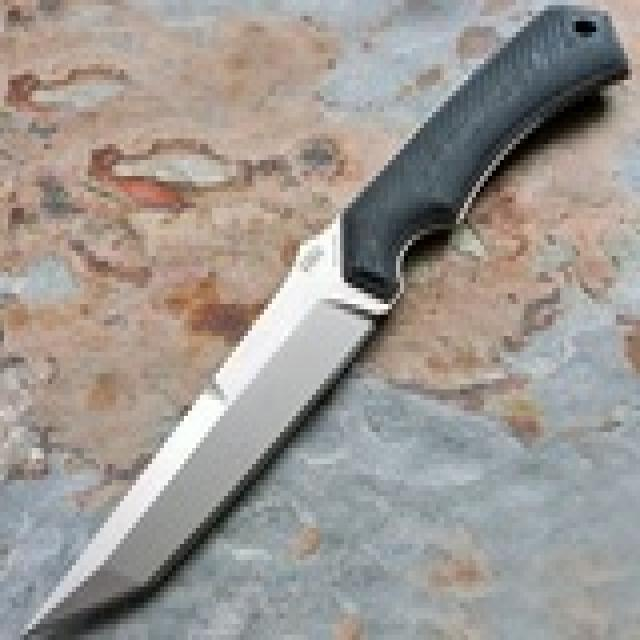Knife: (14, 0, 630, 629)
